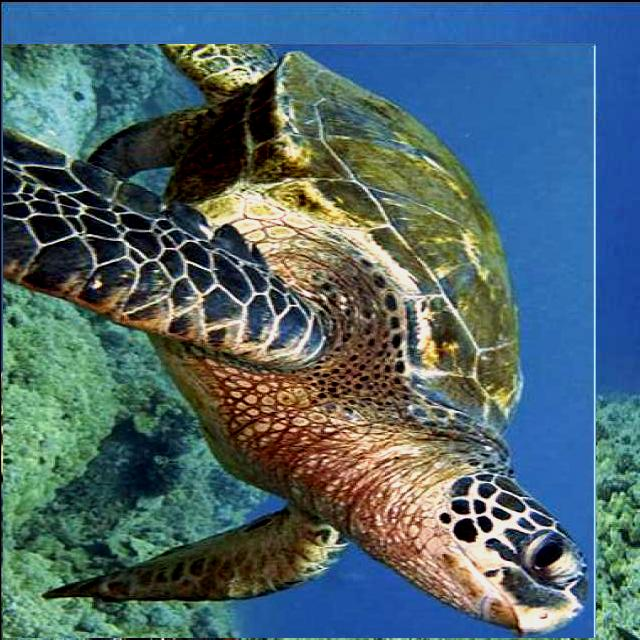Sea turtle: (2, 44, 596, 638)
